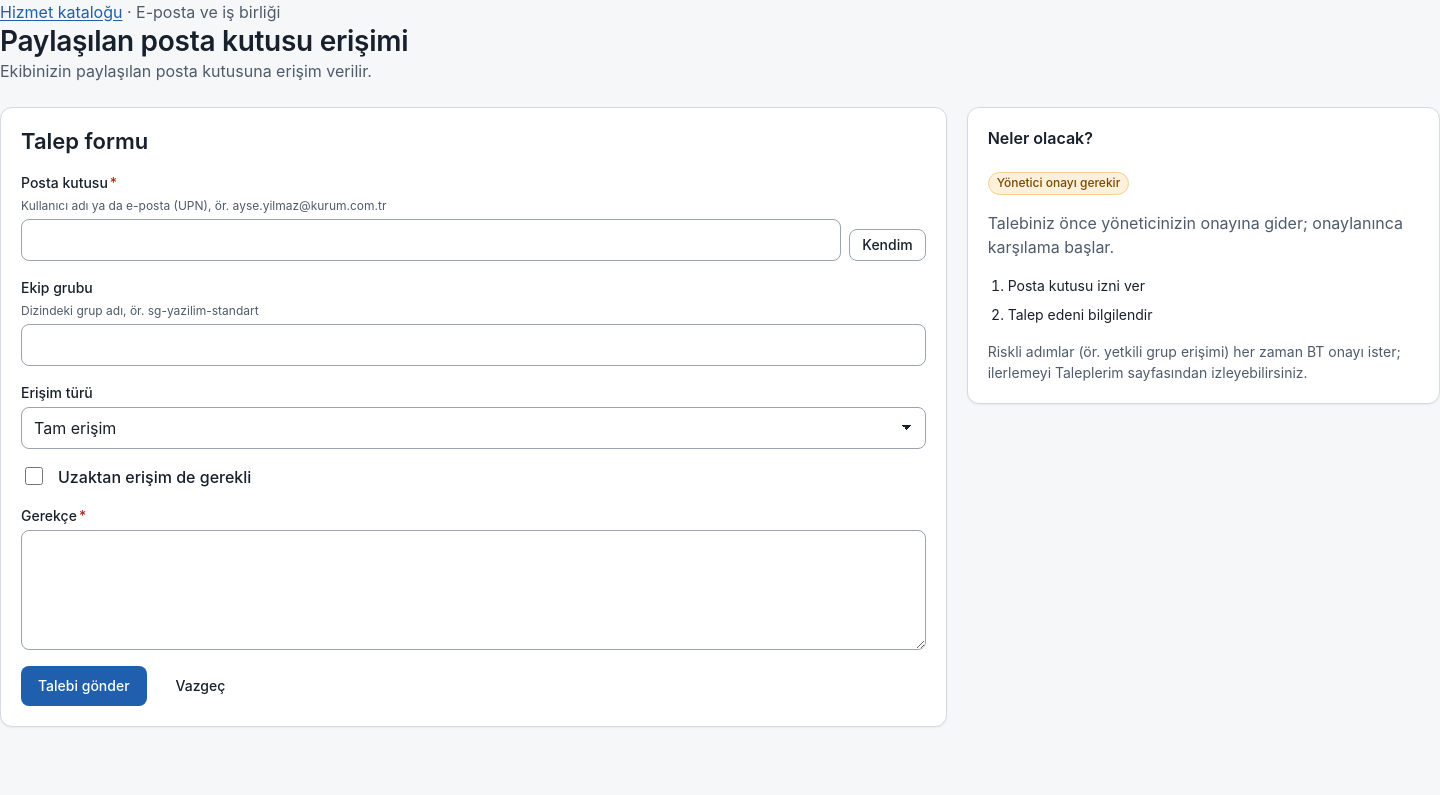
it: CatalogItemPage (/katalog/:key) › istemci doğrulaması: hata özeti odak alır, alanlar aria-invalid, istek gönderilmez
Expected: the heading "Paylaşılan posta kutusu erişimi" is shown, [0,24,408,59]
Click the button "Talebi gönder" at [84, 686], box [21,666,147,706]
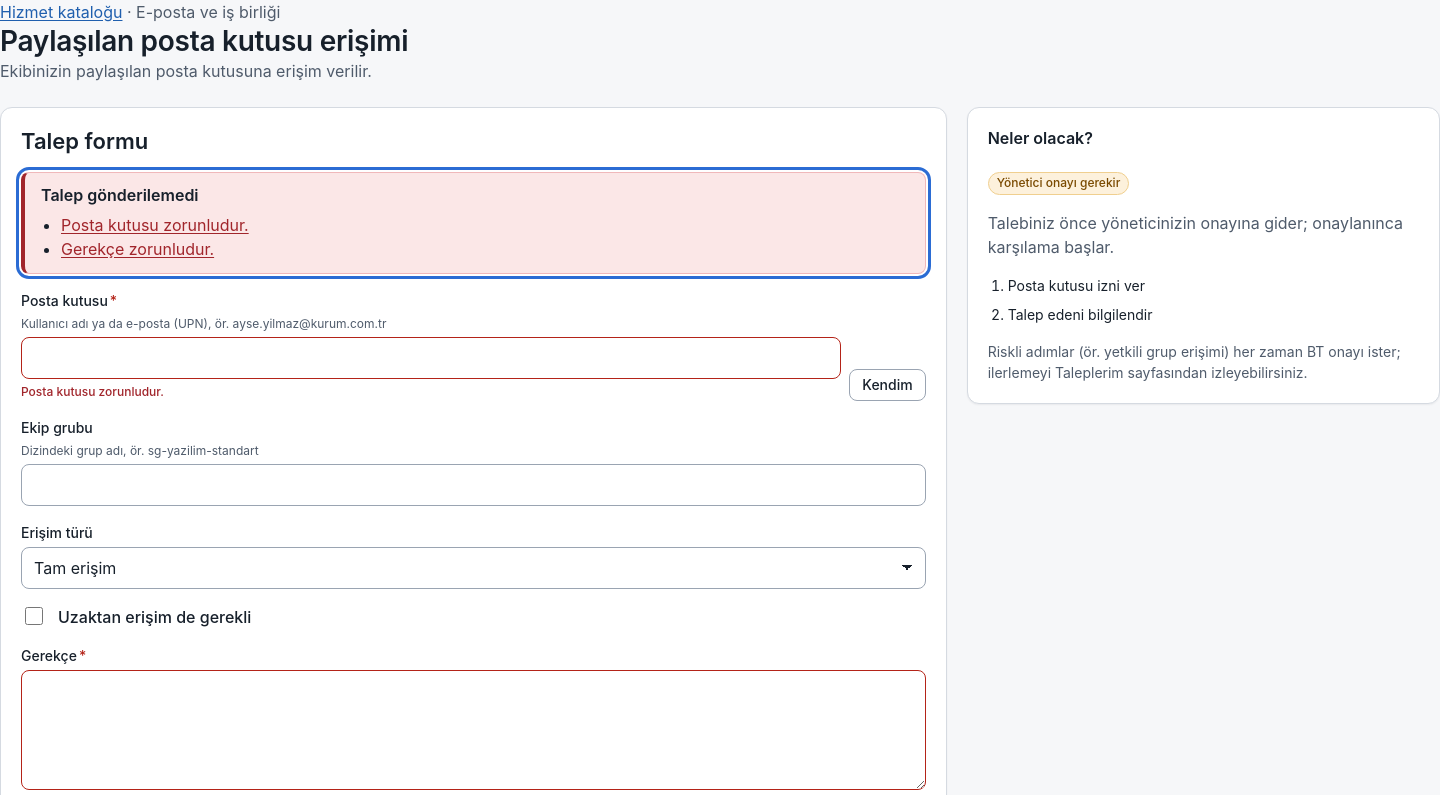
Expected: the field labelled "Posta kutusu*" is marked as invalid, [21,336,841,378]
Type "ab" into the text box labelled "Gerekçe*" at [473, 730], box [21,670,926,790]
(page scrolled)
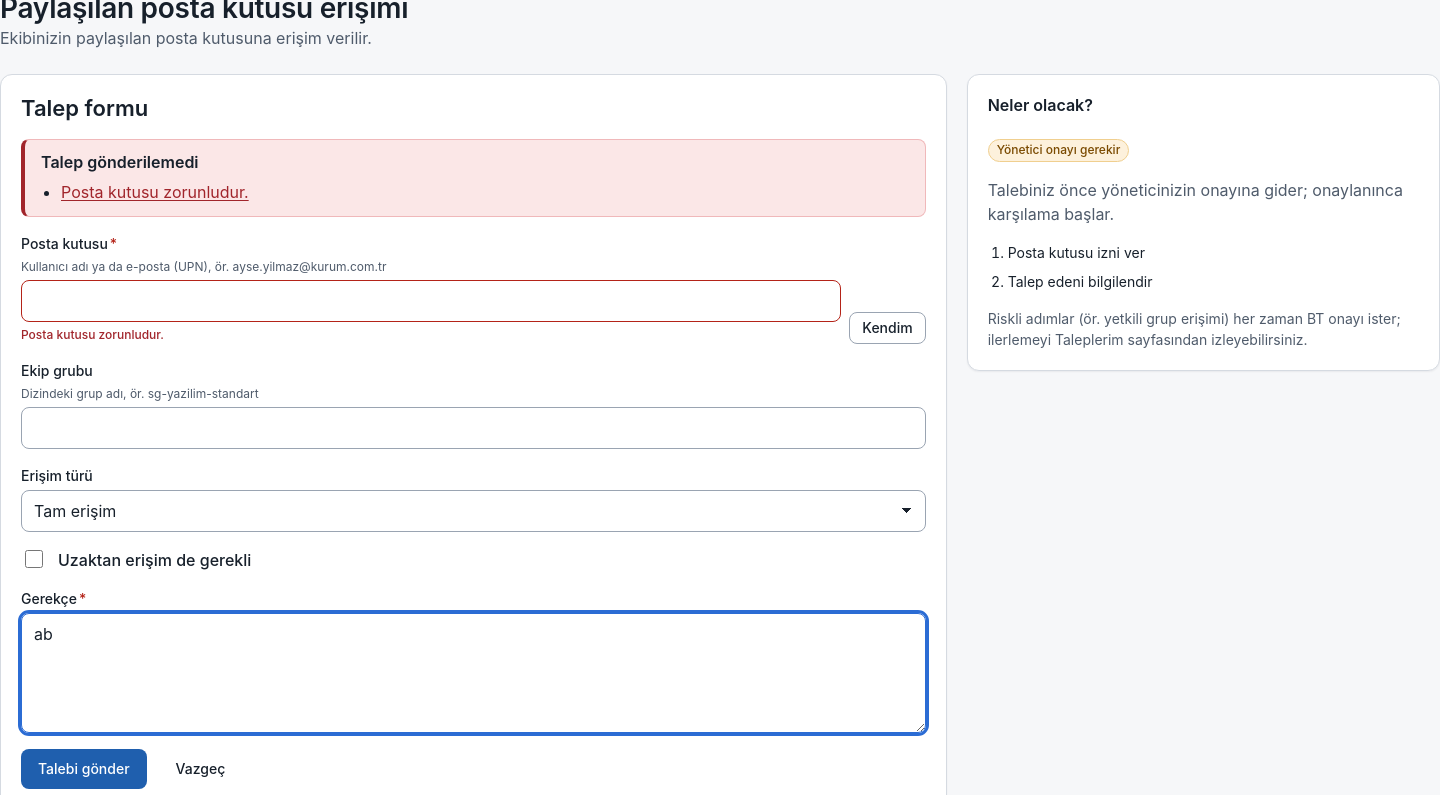
Click the button "Talebi gönder" at [84, 768], box [21,748,147,788]
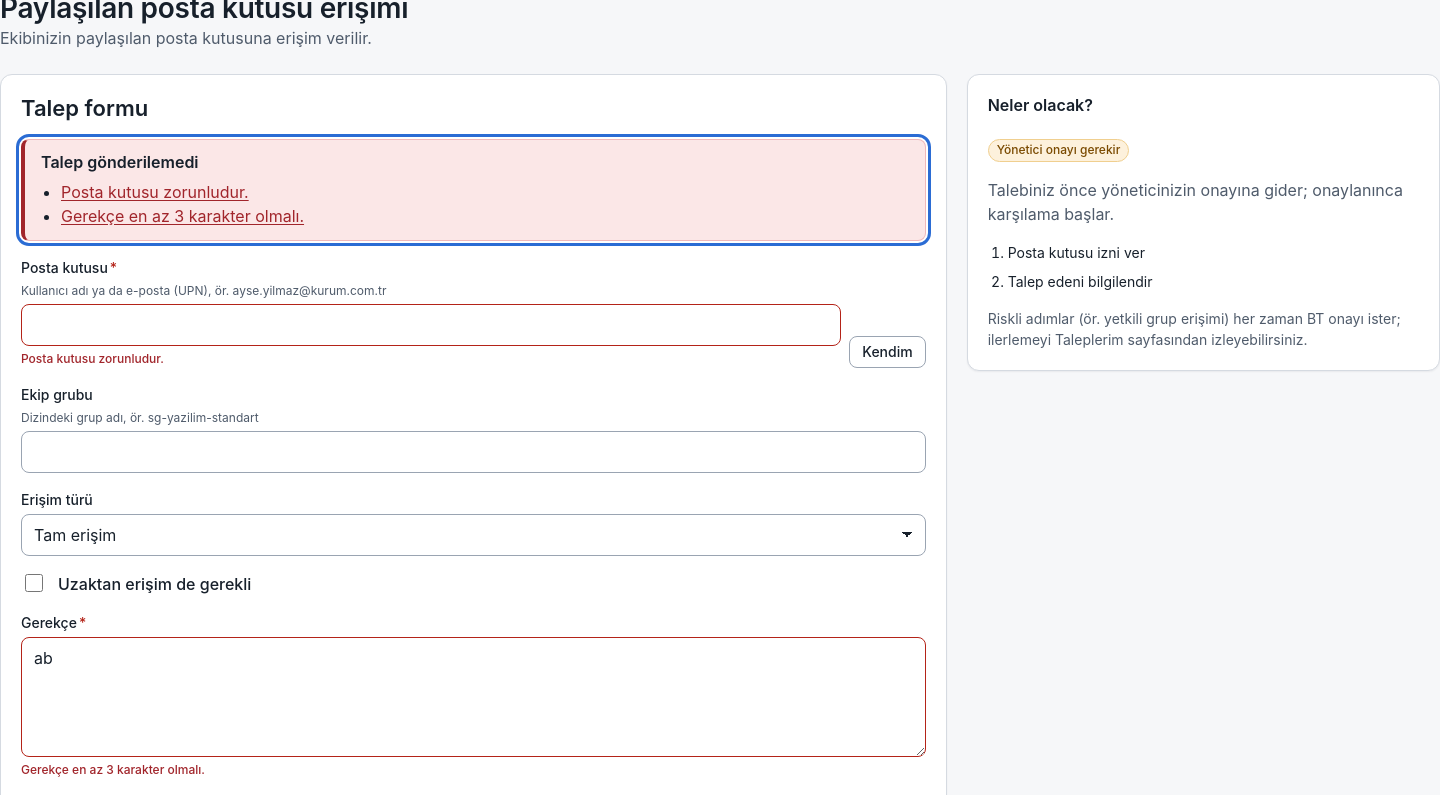
Expected: the link "Gerekçe en az 3 karakter olmalı." is shown, [61,206,304,226]
